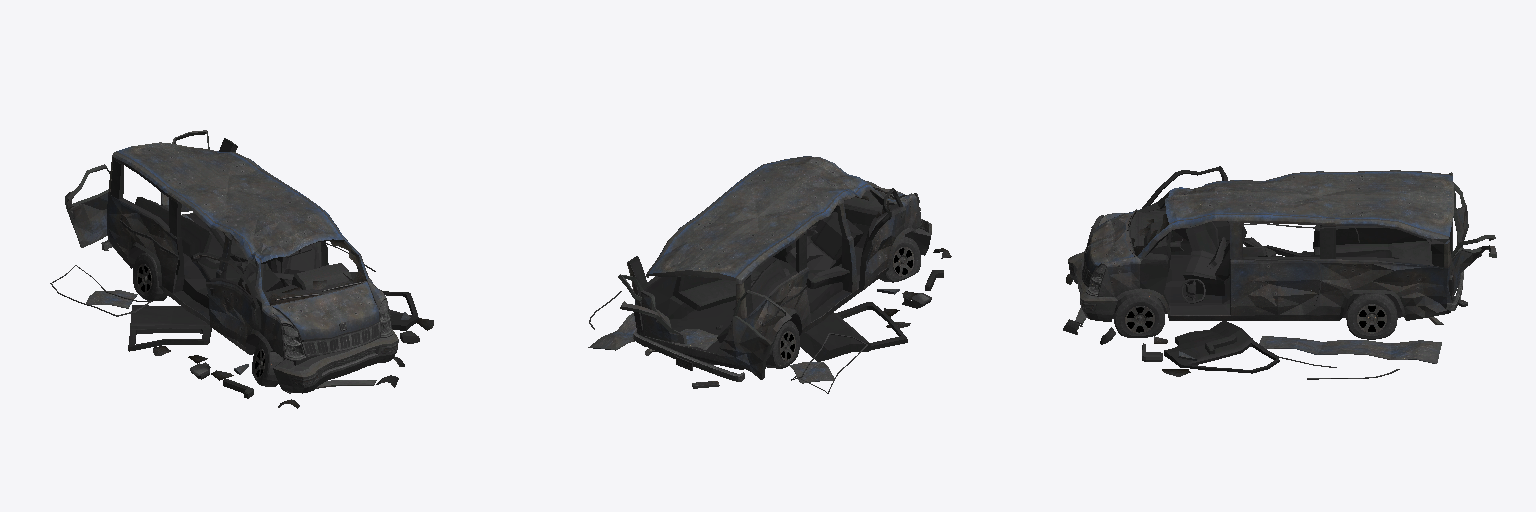
3 renders of one model, left to right at view 1: azimuth 30°, elevation 25°; view 2: azimuth 150°, elevation 25°; view 3: azimuth 270°, elevation 25°, orthographic.
Parts seen in each view (by area): view 1: SM_TC5car02_des; view 2: SM_TC5car02_des; view 3: SM_TC5car02_des.
Boxes of the visible parts, box(x1,y1,x2,y2) form: SM_TC5car02_des: box(50, 130, 433, 408); SM_TC5car02_des: box(588, 156, 951, 393); SM_TC5car02_des: box(1063, 166, 1496, 379).
Size of the model in its own units: 536 by 233 by 755.
3 materials, 3 textured.